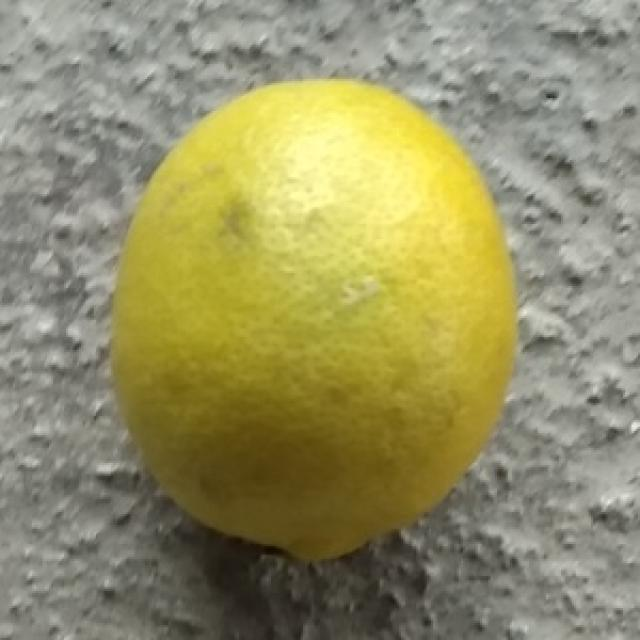Lemon: (109, 74, 522, 564)
